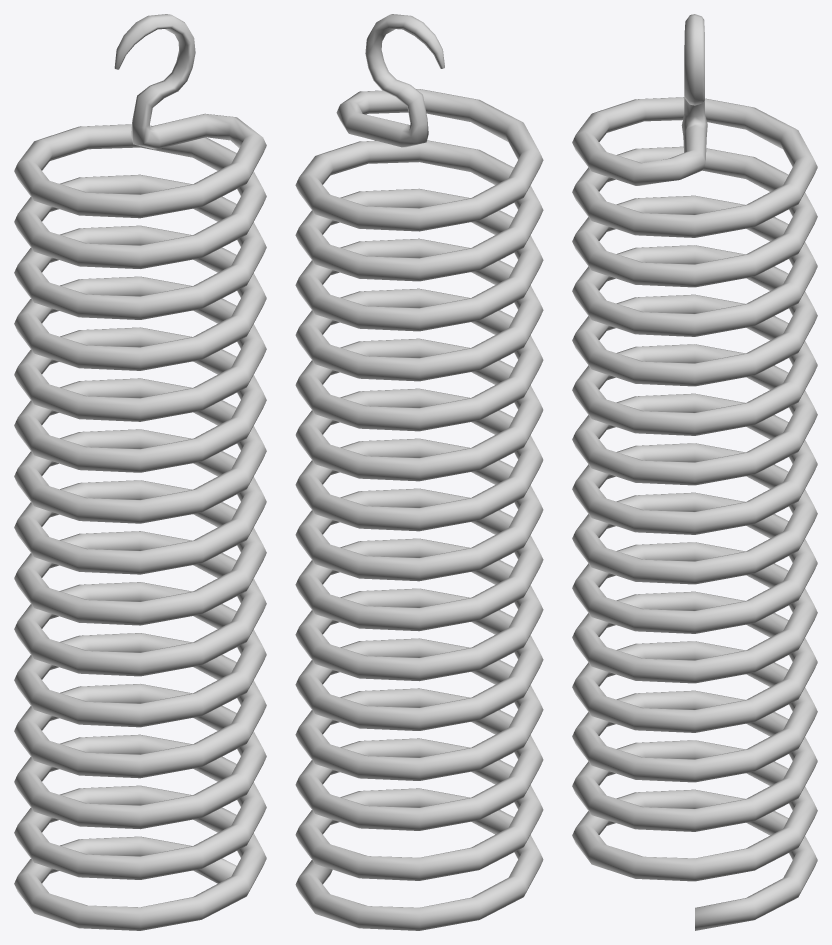
The model's file is spring.fbx.
3 renders of one model, left to right at view 1: azimuth 30°, elevation 25°; view 2: azimuth 150°, elevation 25°; view 3: azimuth 270°, elevation 25°, orthographic. The views are drawn at different scales.
Parts seen in each view (by area): view 1: pHelix2; view 2: pHelix2; view 3: pHelix2.
Part boxes in pixels (box(x1,y1,x2,y2)): pHelix2: box(14, 14, 266, 930); pHelix2: box(295, 14, 543, 930); pHelix2: box(572, 14, 817, 930).
Size of the model in its own units: 1.66 by 6.49 by 1.66.
Materials: 1 (1 with a texture image).
